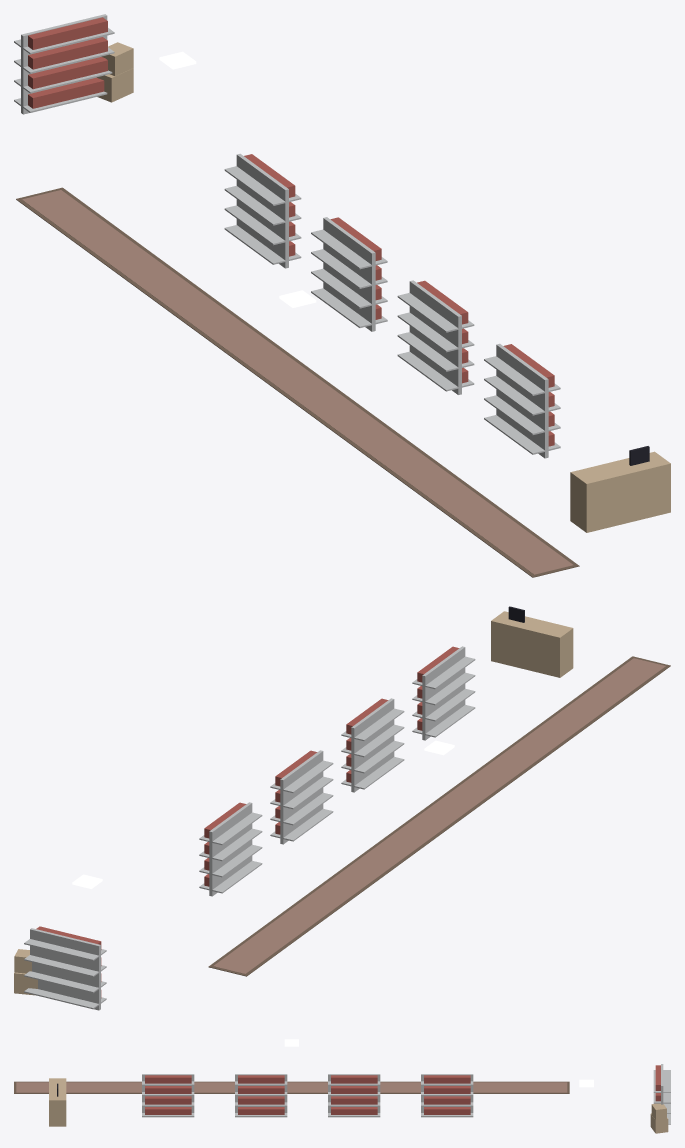
Rendered from fine-s0.glb.
The picture shows the model from 3 angles, top to bottom: view 1: azimuth 30°, elevation 25°; view 2: azimuth 150°, elevation 25°; view 3: azimuth 270°, elevation 25°; orthographic projection. The views are drawn at different scales.
Parts seen in each view (by area): view 1: soft-s0, shelving.000, shop-counter.000, shelf.002, shelf.000, shelf.003, shelf.001, cardboard-box.000; view 2: soft-s0, shelving.000, shop-counter.000, shelf.001, shelf.002, shelf.000, shelf.003, cardboard-box.000; view 3: soft-s0, shelf.000, shelf.001, shelf.002, shelf.003, shop-counter.000, shelving.000, cardboard-box.000.
Boxes of the visible parts, x1,y1,x2,y2 form: soft-s0: (16,187,579,577); shelving.000: (14,14,114,114); shop-counter.000: (570,446,670,532); shelf.002: (397,280,474,394); shelf.000: (224,153,301,268); shelf.003: (484,343,560,458); shelf.001: (311,217,387,331); cardboard-box.000: (97,42,133,102); soft-s0: (208,656,670,976); shelving.000: (24,926,106,1010); shop-counter.000: (491,606,573,677); shelf.001: (270,750,333,844); shelf.002: (341,698,404,792); shelf.000: (199,802,262,896); shelf.003: (412,646,475,740); cardboard-box.000: (14,949,37,995); soft-s0: (14,1081,569,1093); shelf.000: (421,1074,473,1117); shelf.001: (328,1074,380,1117); shelf.002: (235,1074,287,1117); shelf.003: (142,1074,194,1117); shop-counter.000: (49,1078,66,1126); shelving.000: (653,1064,670,1124); cardboard-box.000: (650,1103,668,1133).
Size of the model in its own units: 4.23 by 1.74 by 22.61.
